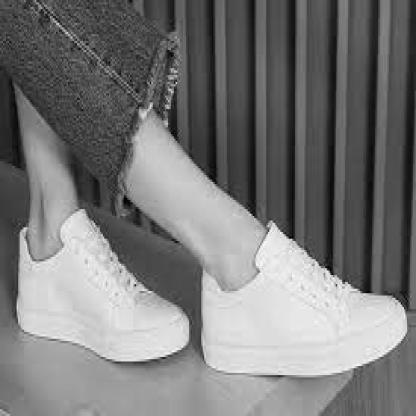ankle: (48, 237, 51, 241), (232, 276, 235, 280)
heel: (206, 344, 208, 349), (22, 302, 24, 306)
left_foot: (17, 226, 190, 360)
pinky: (172, 303, 175, 308), (374, 330, 377, 334)
right_foot: (204, 239, 408, 372)
toe: (157, 328, 161, 333), (385, 296, 388, 301)
